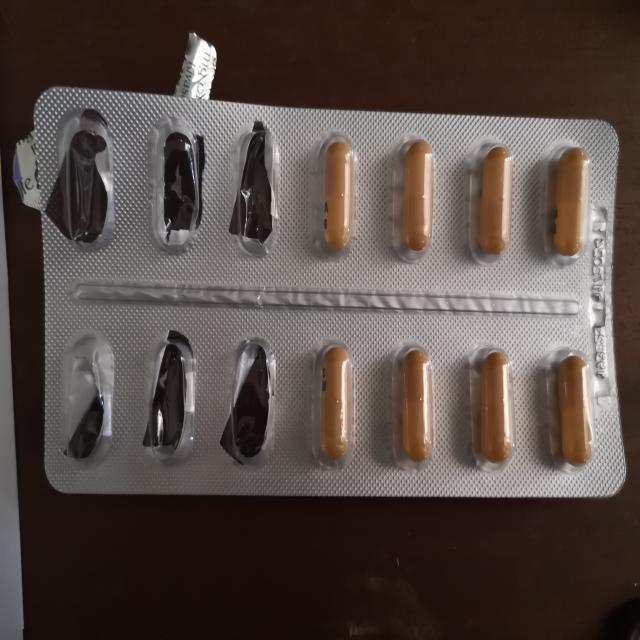Empty: (37, 104, 119, 262), (49, 316, 124, 475), (140, 108, 214, 260), (220, 316, 286, 480), (147, 320, 208, 480), (227, 112, 289, 264)
Pill: (458, 336, 519, 478), (303, 120, 363, 264), (382, 331, 439, 480), (539, 338, 598, 478), (305, 334, 363, 476), (464, 133, 521, 271), (389, 127, 445, 264), (542, 134, 595, 276)
